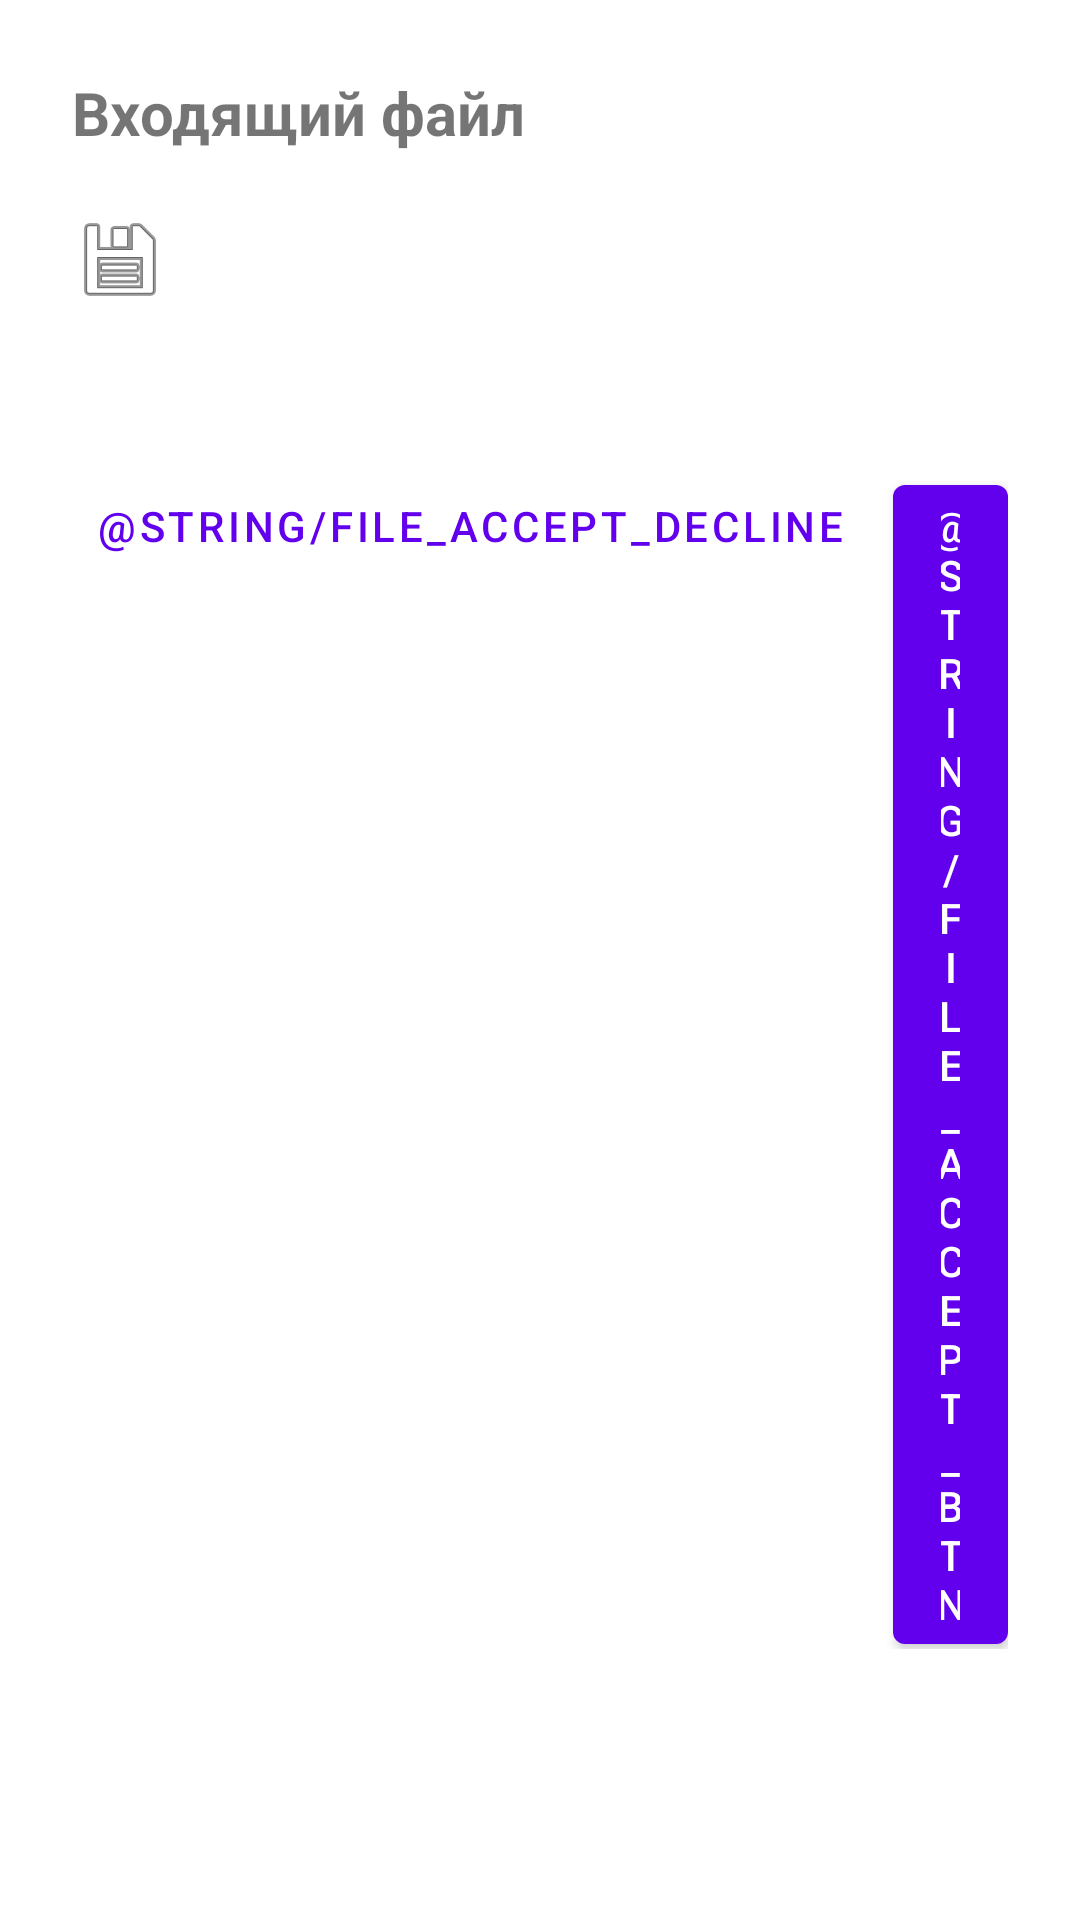

Icon bounding boxes for this 1080w x 1920h phone screenshot, format (x1, y1, x2, y2):
save: (84, 223, 156, 296)
